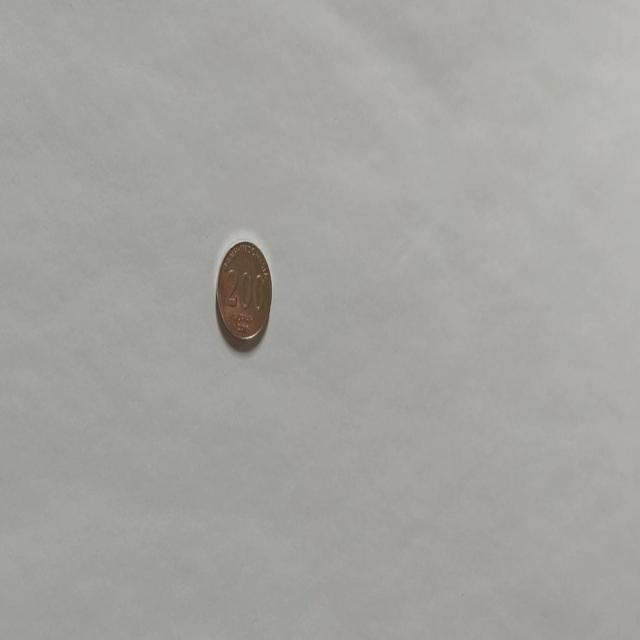dua ratus rupiah: (214, 238, 272, 343)
